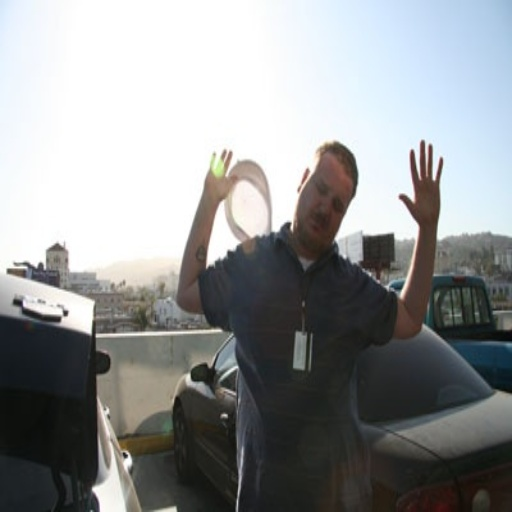hand: (398, 132, 450, 262), (202, 143, 238, 203)
